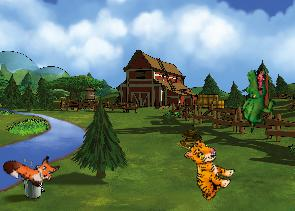crocodile: (230, 65, 282, 133)
fox: (0, 140, 62, 194)
tiger: (171, 136, 241, 204)
